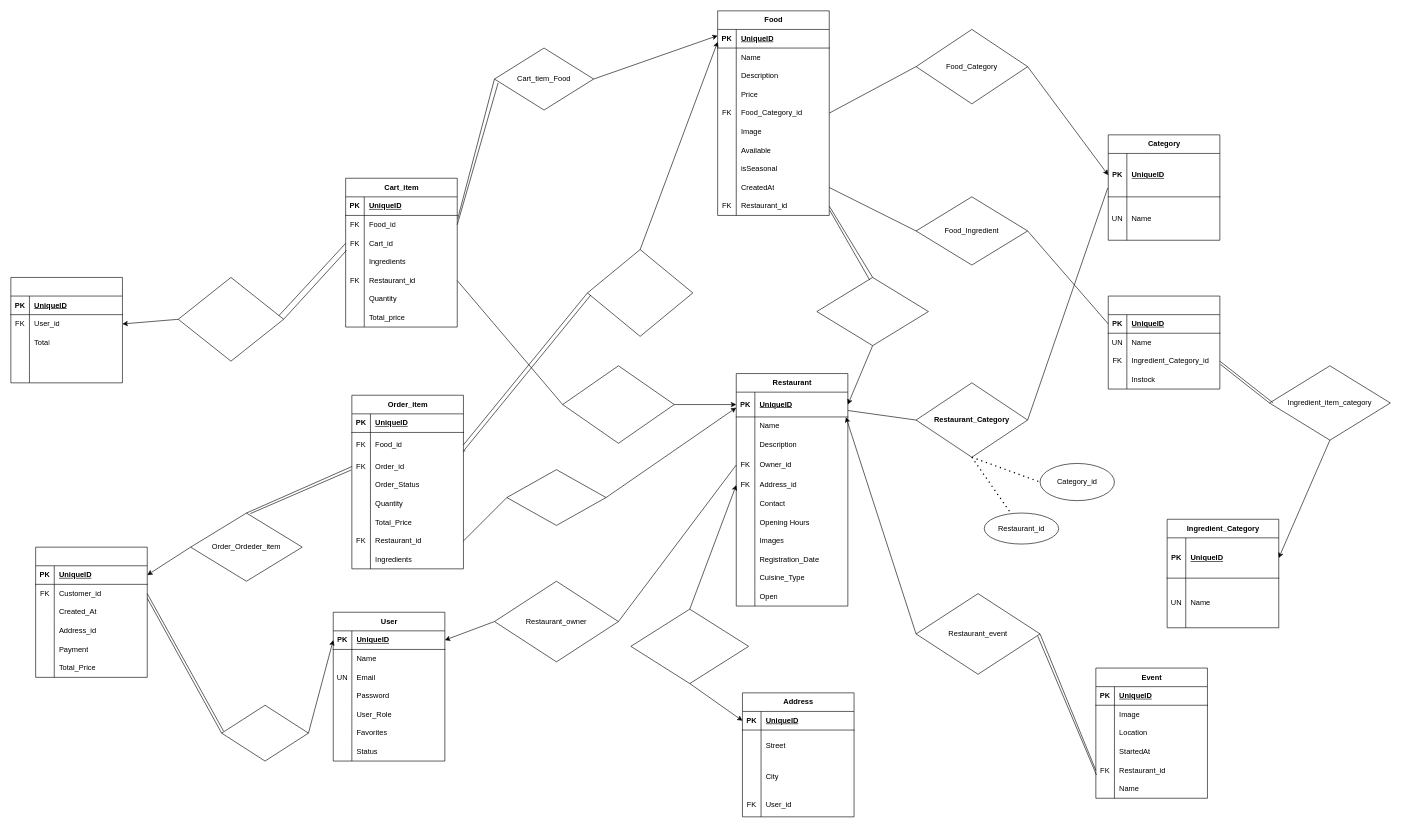
This 1401x828 diagram has some shape labels left out. The shapes that lost their labels are listed below. From the top down, each one's box as (x1, y1, x2, y2) in pixels, then its label:
(587, 249, 693, 336): Order_item_food
(816, 277, 928, 346): Restaurant_Food
(10, 277, 122, 383): Cart
(178, 277, 284, 361): Cart_'s_Cart_item
(1108, 295, 1220, 389): Ingredient_Item
(562, 365, 674, 443): Cart_item_of_Restaurant
(506, 469, 606, 525): Restaurant's_orders
(35, 547, 147, 677): Order
(630, 609, 749, 684): Restuarant_Address
(221, 705, 308, 761): Use_order
